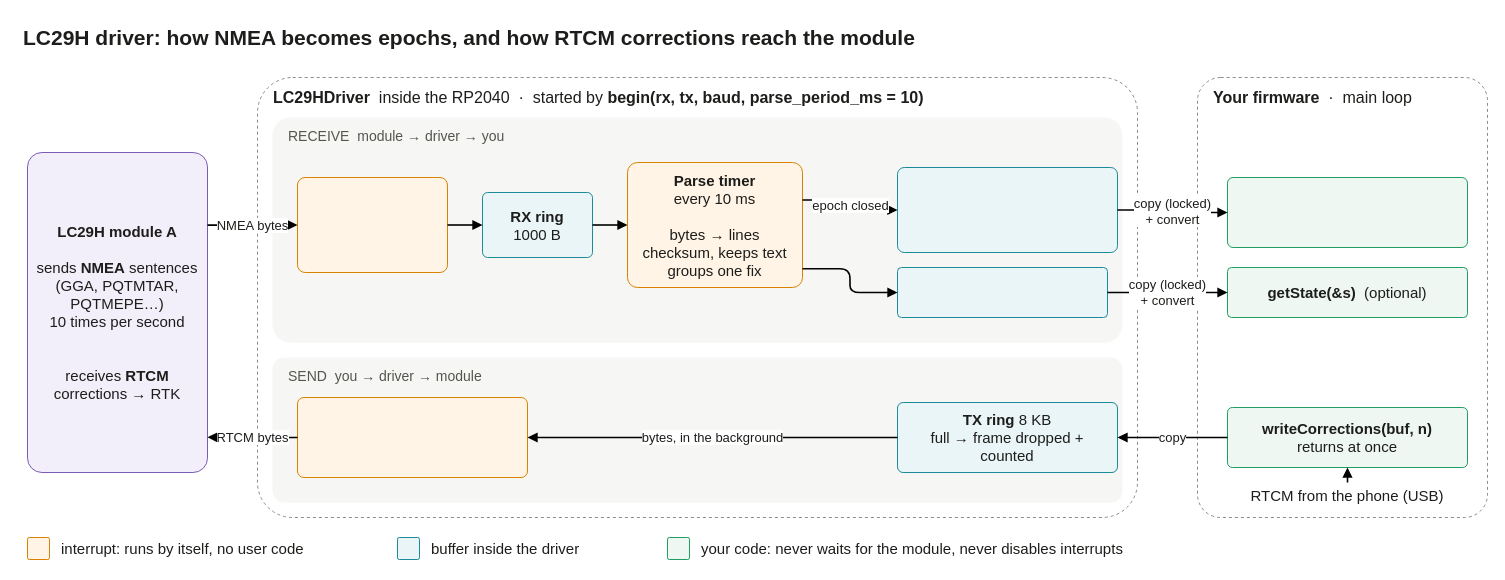
This 1505x580 diagram has some shape labels left out. Each missing label, with the centre of its shape:
Epoch queue (8) GGA + PQTMTAR [+ PQTMEPE if configured]: point (1007, 209)
RtkState latest values: point (1002, 292)
UART interrupt RX FIFO → ring counts UART errors: point (372, 224)
UART interrupt TX FIFO half empty → refill from the ring: point (412, 437)
while (takeEpoch(&e)) use e (send to CAN…): point (1347, 212)
